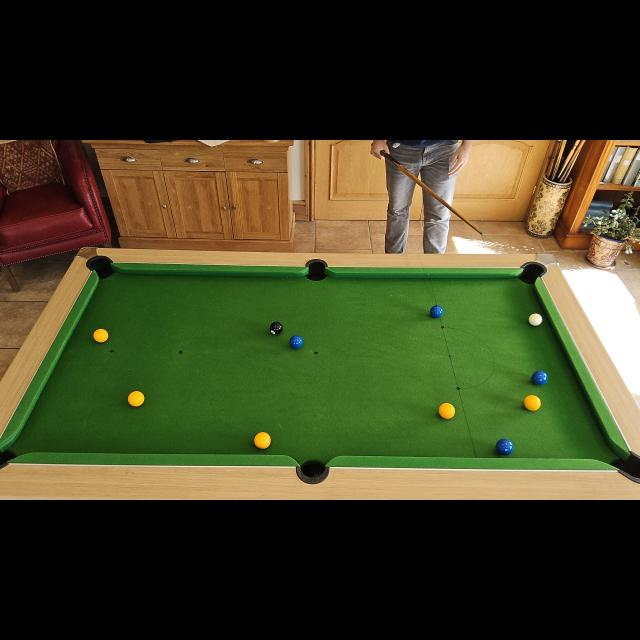Ball: (523, 394, 541, 412), (496, 439, 514, 455), (439, 402, 455, 420), (530, 371, 548, 387), (254, 432, 270, 448), (128, 391, 144, 407), (289, 335, 303, 349), (94, 329, 108, 343), (529, 314, 543, 326), (270, 321, 282, 335), (431, 306, 444, 318)
